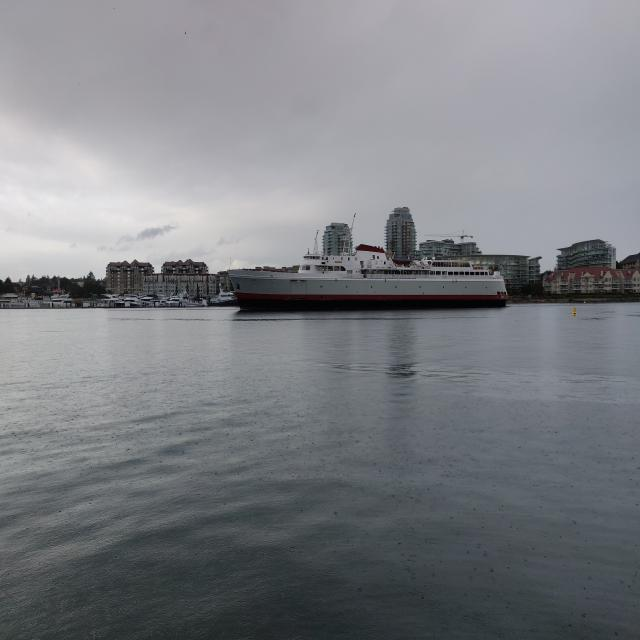boat: (226, 214, 509, 312), (5, 278, 66, 308), (209, 283, 238, 306), (37, 292, 74, 307), (130, 292, 161, 307), (97, 293, 128, 307), (164, 290, 188, 306), (148, 294, 174, 308), (114, 294, 140, 307), (180, 296, 203, 307)
mark: (572, 306, 577, 316), (584, 300, 586, 304)
